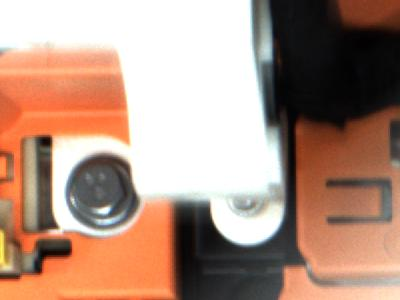nut_b: (59, 156, 141, 231)
